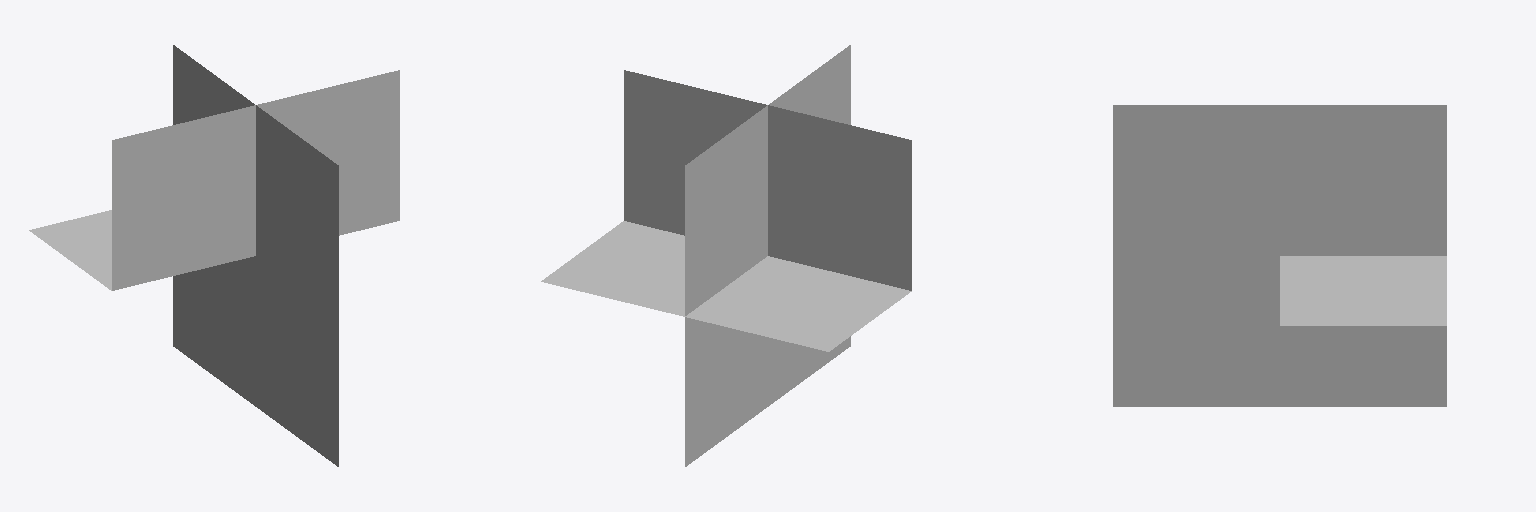
3 renders of one model, left to right at view 1: azimuth 30°, elevation 25°; view 2: azimuth 150°, elevation 25°; view 3: azimuth 270°, elevation 25°, orthographic.
Visible parts, largest first — view 1: 1010_1001_立方体.104; view 2: 1010_1001_立方体.104; view 3: 1010_1001_立方体.104.
Boxes of the visible parts, <box> form: 1010_1001_立方体.104: <box>29,45,399,466</box>; 1010_1001_立方体.104: <box>541,45,911,466</box>; 1010_1001_立方体.104: <box>1113,105,1446,406</box>.
Bounding box in the file's own units: 1 × 1 × 1.